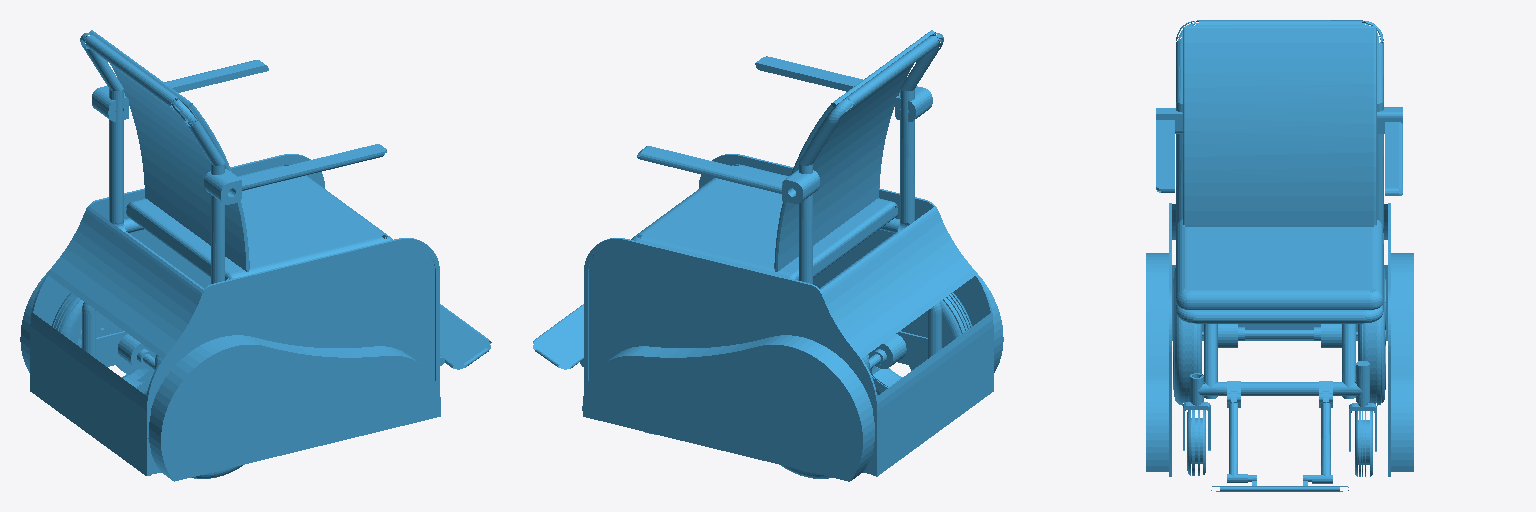
robot.urdf — autonomous_wheelchair:
<?xml version="1.0"?>
<robot name="autonomous_wheelchair">

<link name="base_footprint"/>

  <joint name="base_joint" type="fixed">
    <parent link="base_footprint"/>
    <child link="base_link"/>
    <origin xyz="0.0 0.0 0.155" rpy="0 0 0"/>
  </joint>

  <link name="base_link">
    <visual>
      <origin xyz="0 0 0.54"/>
      <geometry>
        <mesh filename="package://turtlebot3_description/meshes/bases/autonomous_wheelchair.stl" scale="0.0011 0.0011 0.0011"/>
      </geometry>
    </visual>
  </link>

 <link name="wheel_right_link">
  </link>

  <joint name="wheel_right_joint" type="fixed">
    <parent link="base_link"/>
    <child link="wheel_right_link"/>
    <origin xyz="0.0 -0.2625 0.0" rpy="0 0 0"/>
  </joint>

 <link name="wheel_left_link">
  </link>

  <joint name="wheel_left_joint" type="fixed">
    <parent link="base_link"/>
    <child link="wheel_left_link"/>
    <origin xyz="0.0 0.2625 0.0" rpy="0 0 0"/>
  </joint>
</robot>

--- What the picture shows (computed from the rendered views, not written in the file) ---
Views: 3 orthographic renders of the robot side by side, from view 1: azimuth 30°, elevation 25°; view 2: azimuth 150°, elevation 25°; view 3: azimuth 270°, elevation 25°.
Model autonomous_wheelchair with 4 links and 3 joints (3 fixed), rooted at base_footprint, posed every joint at zero.
Links seen in each view (by area): view 1: base_link; view 2: base_link; view 3: base_link.
Link boxes in pixels (box(x1,y1,x2,y2)): base_link: box(20, 30, 491, 481); base_link: box(533, 30, 1003, 481); base_link: box(1146, 20, 1413, 491).
Size in the robot's own frame: 0.9757 by 0.6391 by 0.9552 metres.
1 mesh visuals loaded from 1 distinct referenced files (1 binary STL).